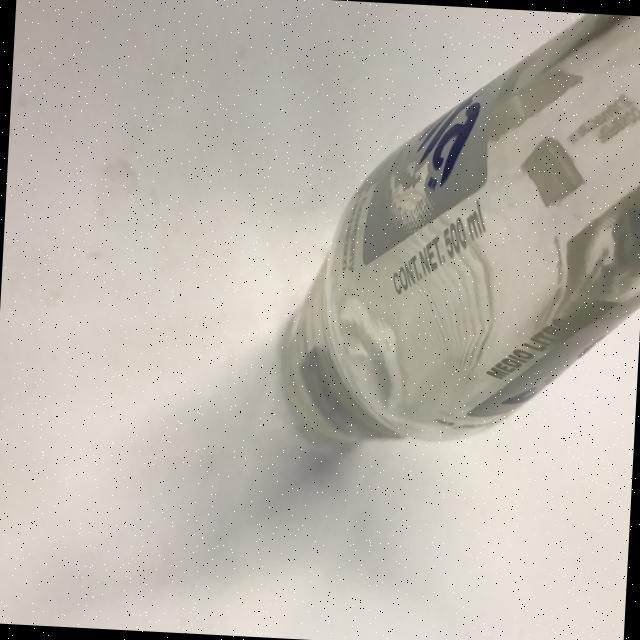glass: (274, 0, 640, 463)
